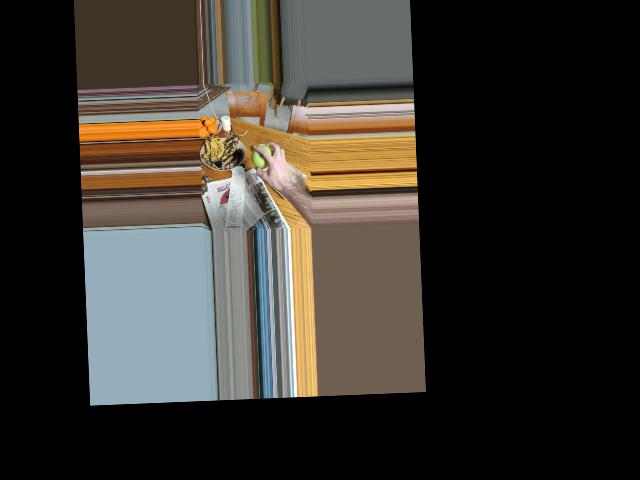apple: (251, 143, 274, 170)
